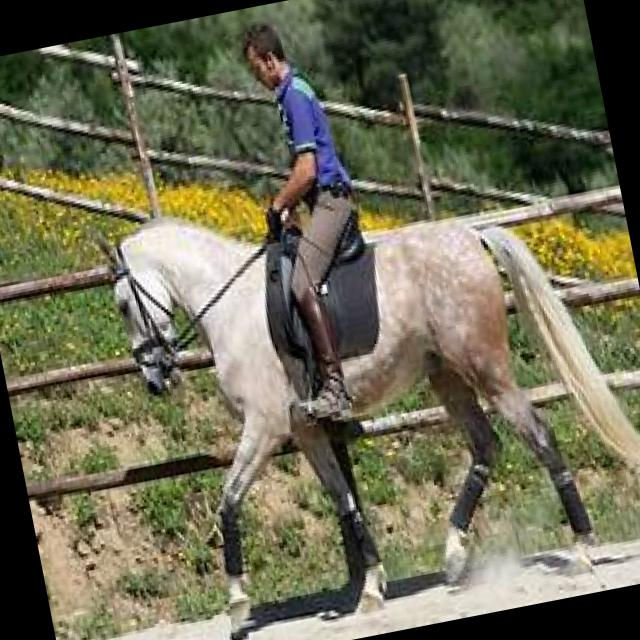animal: (88, 102, 640, 640)
